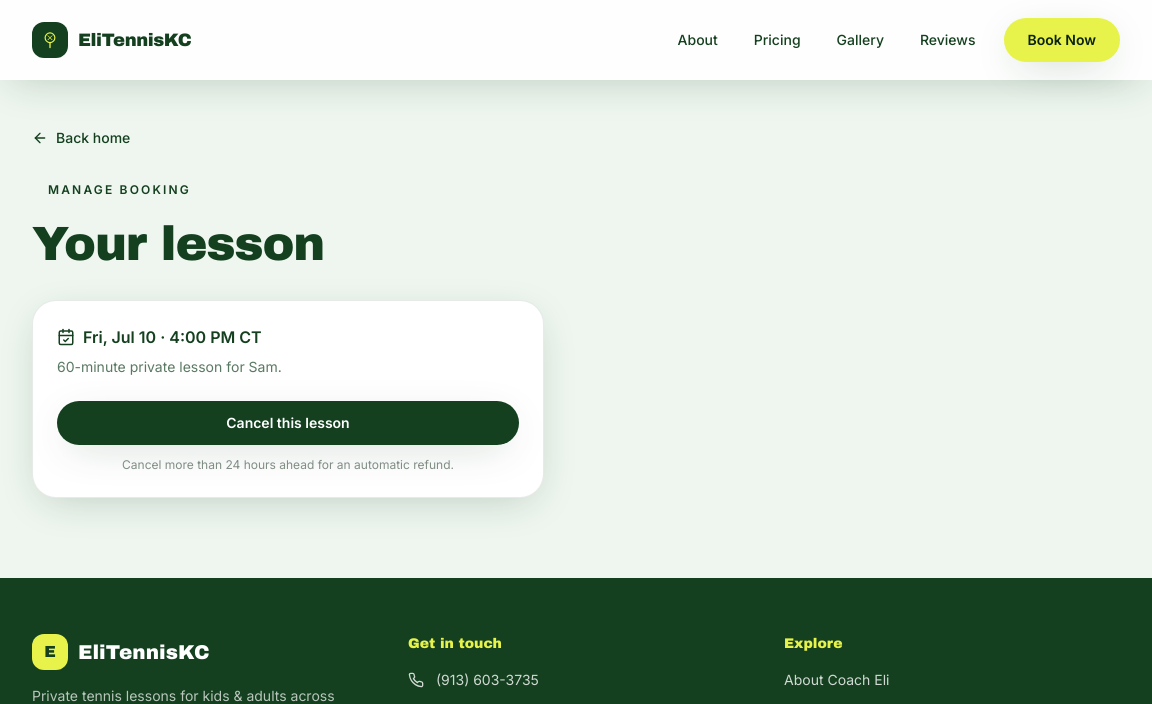
Test: ManageBooking › keeps the page usable and shows an error if the cancel fails
The image size is (1152, 704).
Click the button "Cancel this lesson".
click(288, 423)  # box [57,401,519,445]
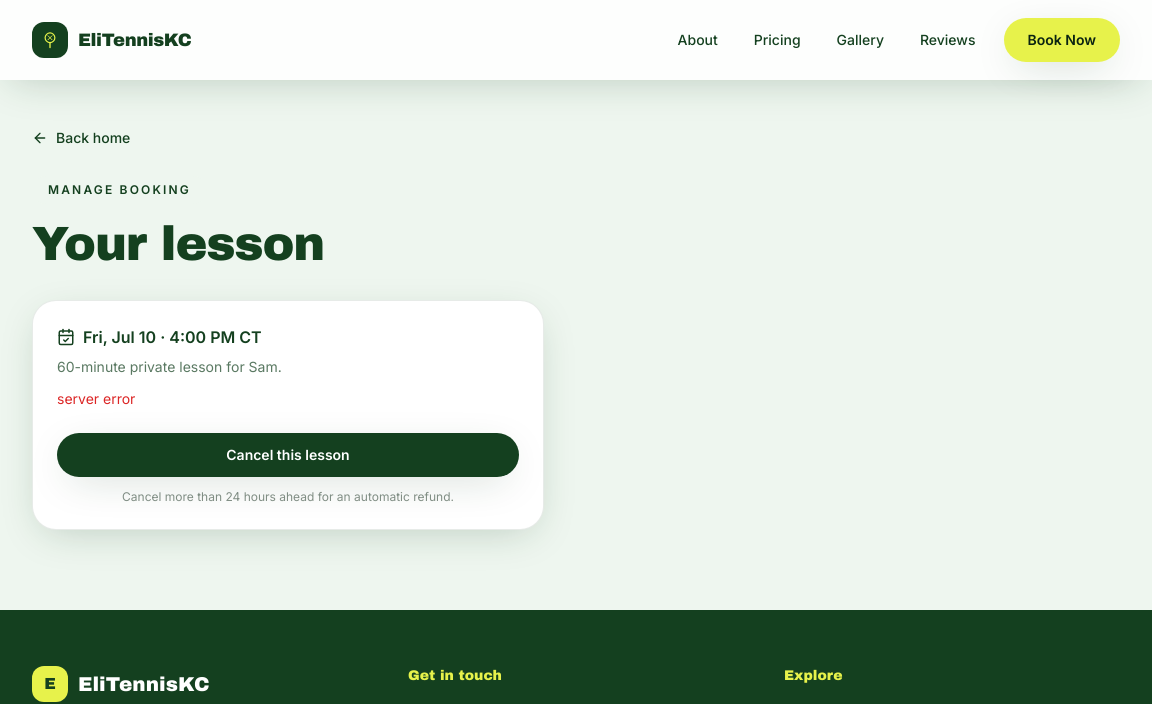
Expected: the button "Cancel this lesson" is shown, [57,433,519,477]
Expected: the text "server error" is shown, [57,390,135,407]
